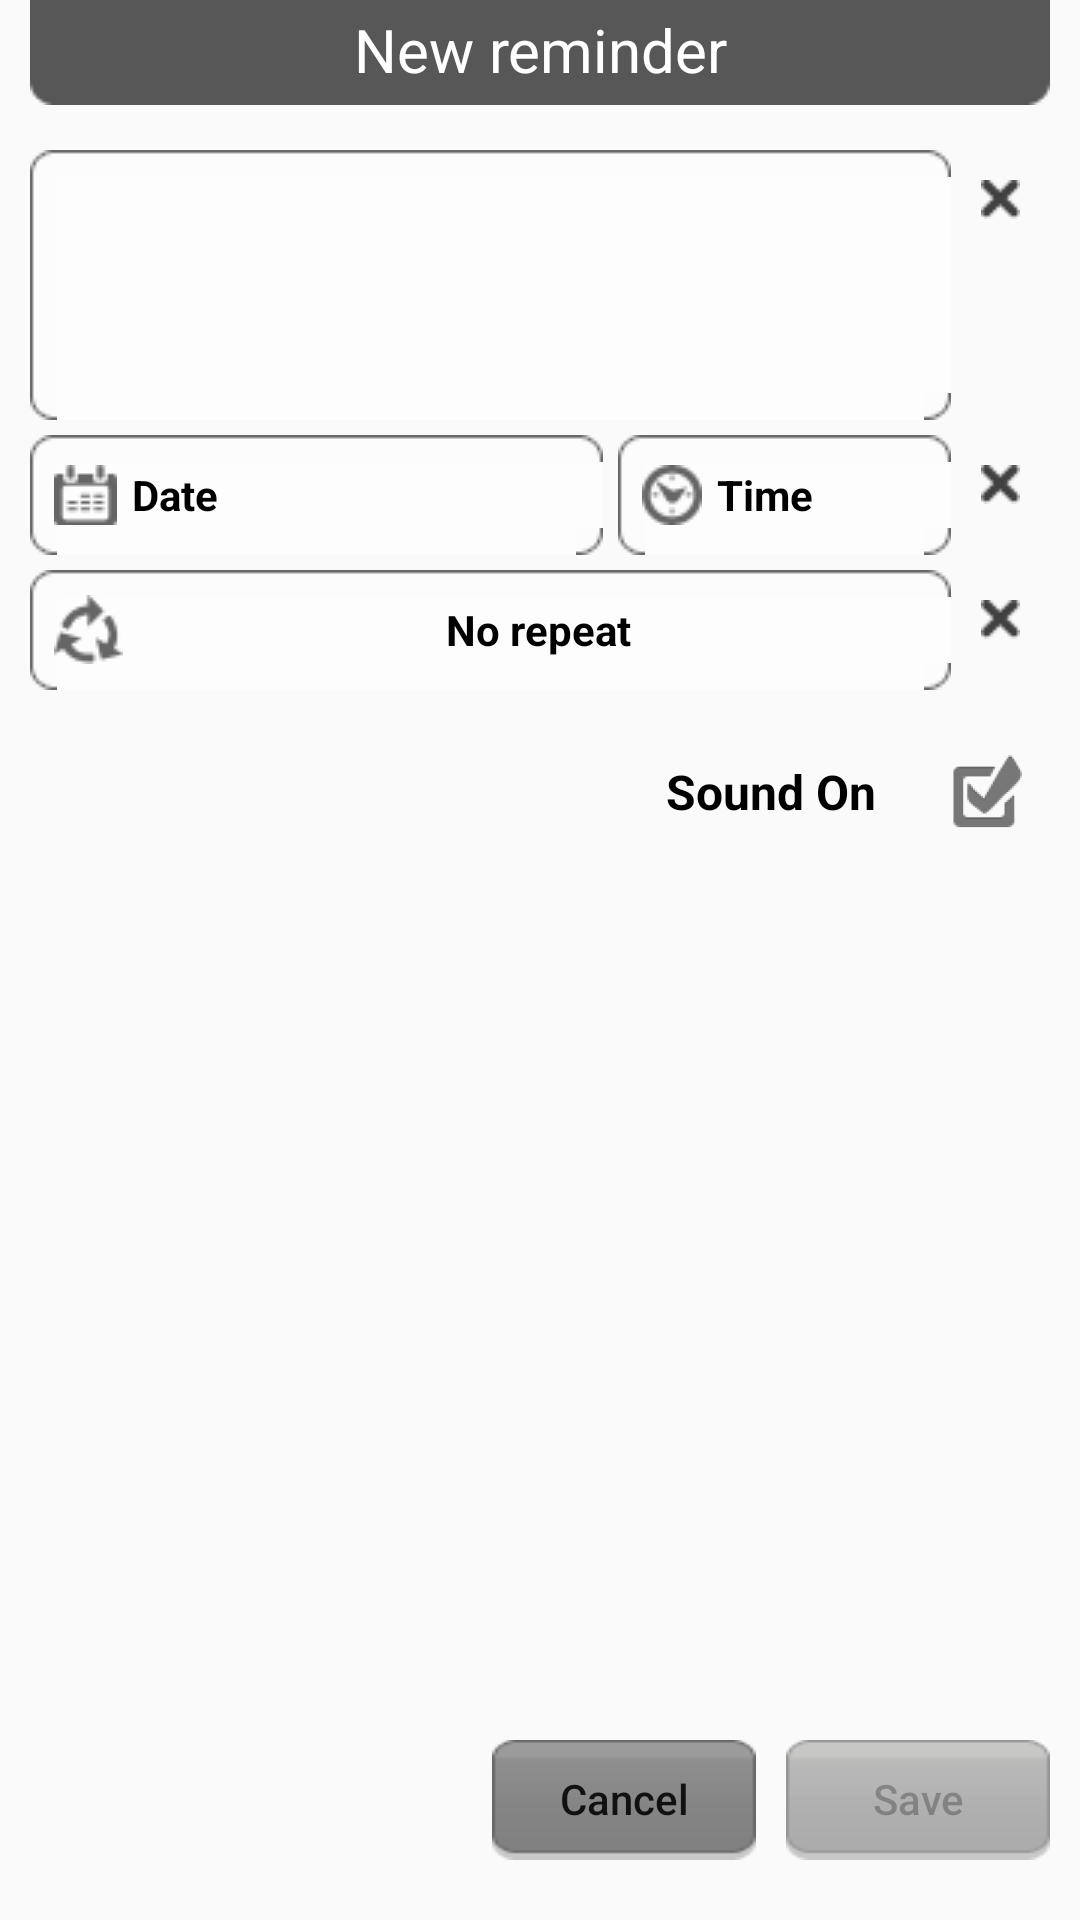

Icon bounding boxes for this 1080×1920 phone screenshot, format (x1, y1, x2, y2):
del: (981, 180, 1020, 219), (981, 465, 1020, 504), (981, 600, 1020, 639)
